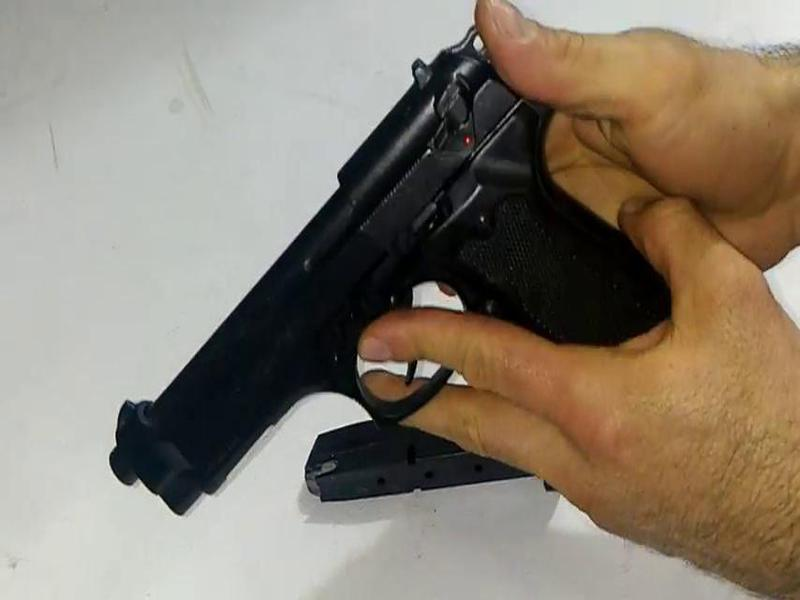Pistola: (90, 14, 718, 529)
